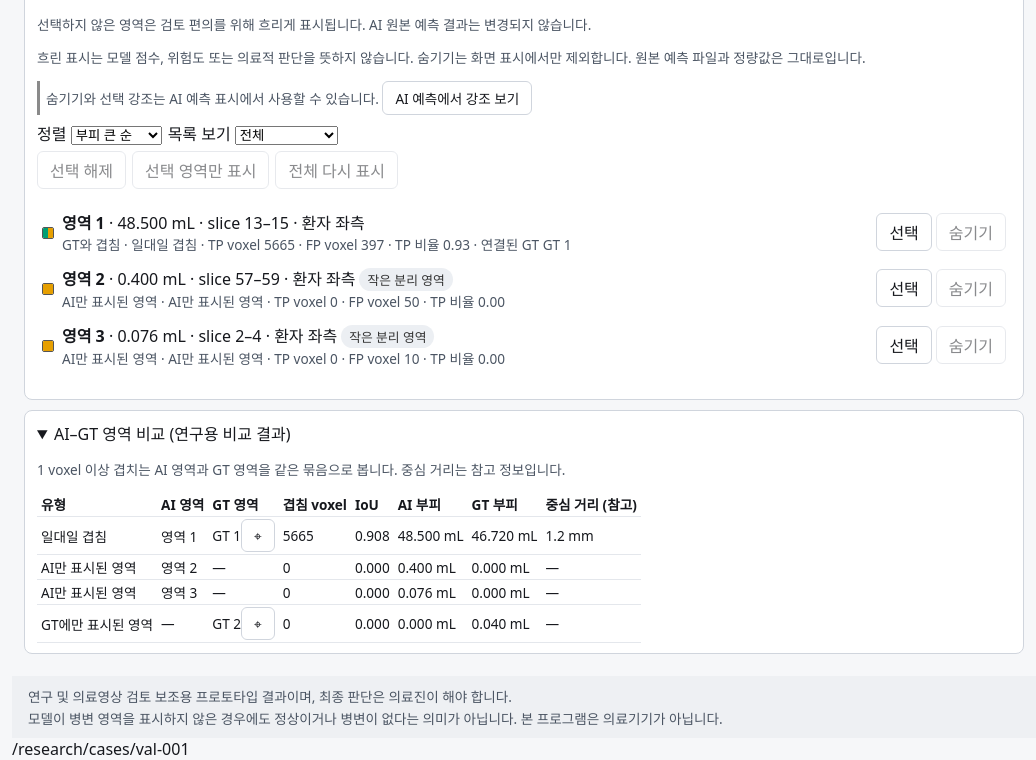
Scenario: research viewer UX (P0) › summarises a ground-truth-only region chosen from the matching table
(page scrolled)
Click the button named "GT 2 위치로 이동" at [258, 624], box top-left (241, 607), bottom-right (275, 640)
(page scrolled)
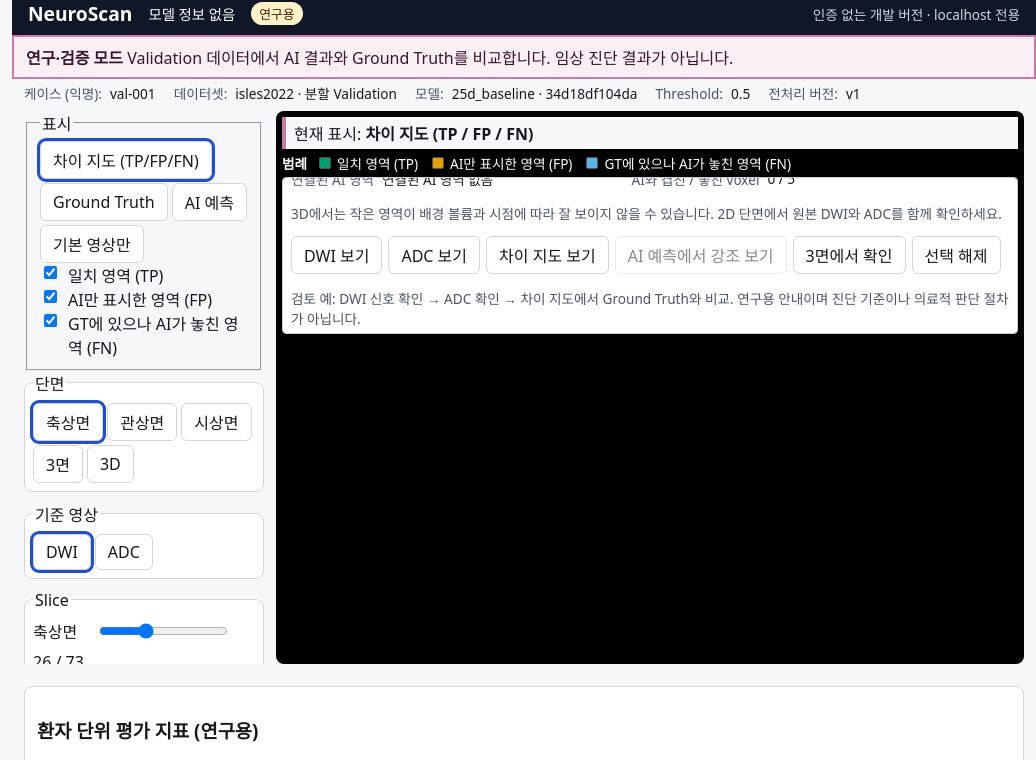
Now the button "AI 예측에서 강조 보기" is disabled, box top-left (615, 236), bottom-right (787, 274)
